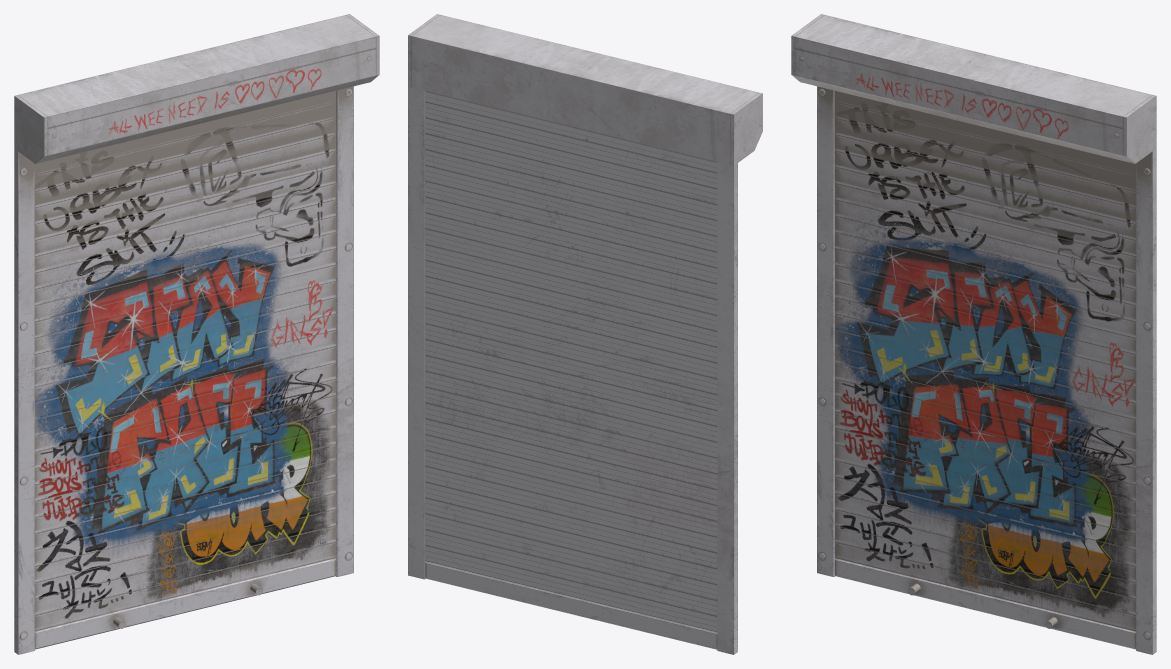
The model's file is rollershutter_window_03_1k.fbx.
3 views of the same model, side by side, from view 1: azimuth 30°, elevation 25°; view 2: azimuth 150°, elevation 25°; view 3: azimuth 330°, elevation 25° (orthographic). The views are drawn at different scales.
Visible parts, largest first — view 1: rollershutter_window_03_graffiti; view 2: rollershutter_window_03_graffiti; view 3: rollershutter_window_03_graffiti.
Boxes of the visible parts, x1,y1,x2,y2 form: rollershutter_window_03_graffiti: [14, 14, 379, 654]; rollershutter_window_03_graffiti: [408, 14, 762, 654]; rollershutter_window_03_graffiti: [791, 14, 1156, 654].
Size of the model in its own units: 97.63 by 155 by 15.31.
